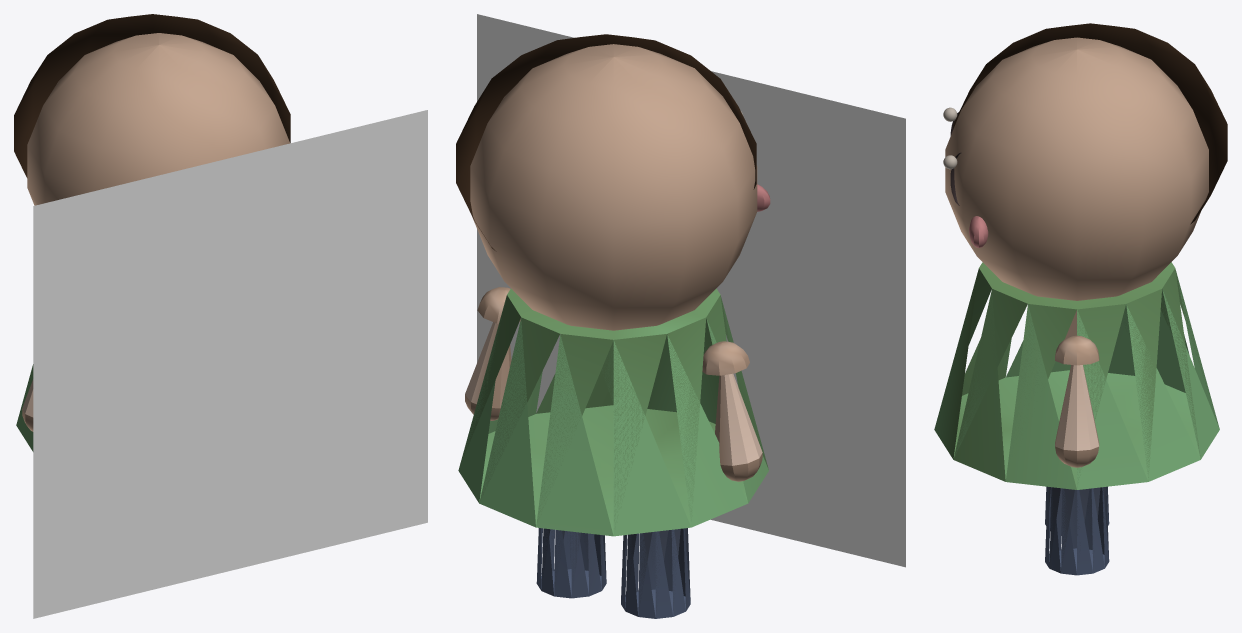
3 renders of one model, left to right at view 1: azimuth 30°, elevation 25°; view 2: azimuth 150°, elevation 25°; view 3: azimuth 270°, elevation 25°, orthographic. The views are drawn at different scales.
Parts seen in each view (by area): view 1: pet_p66f6226b; view 2: pet_p66f6226b; view 3: pet_p66f6226b.
Part boxes in pixels (x1,y1,x2,y2): pet_p66f6226b: (14,14,427,618); pet_p66f6226b: (456,14,905,618); pet_p66f6226b: (934,23,1227,575).
Bounding box in the file's own units: 0.51 × 0.625 × 0.3287.
